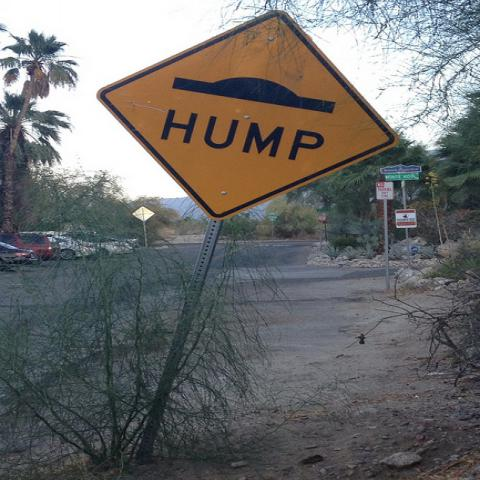car: (53, 231, 140, 259), (21, 231, 87, 260), (1, 232, 61, 260), (1, 242, 40, 270)
truck: (0, 233, 62, 258)
